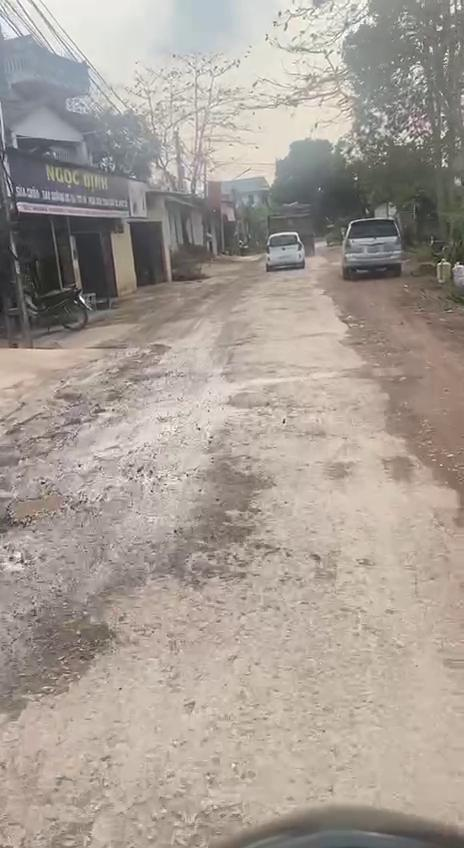pothole: (0, 608, 121, 718)
